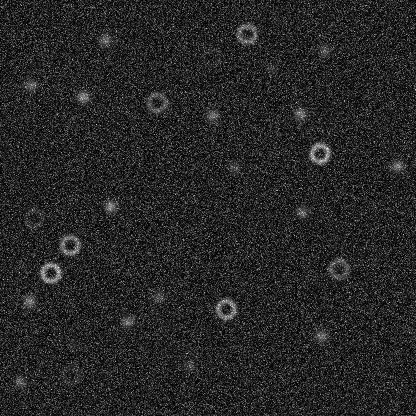Ring: (38, 260, 62, 284), (57, 232, 81, 256), (213, 296, 237, 320), (198, 45, 222, 69), (21, 205, 45, 229), (234, 21, 258, 45), (326, 256, 350, 280), (59, 362, 83, 386), (307, 141, 331, 165), (144, 90, 168, 114)
Spot: (389, 157, 405, 173), (119, 313, 135, 329), (75, 89, 91, 105), (225, 159, 241, 175), (65, 337, 81, 353), (316, 42, 332, 58), (313, 328, 329, 344), (96, 31, 112, 47), (22, 77, 38, 93), (263, 60, 279, 76), (292, 105, 308, 121), (204, 107, 220, 123), (180, 357, 196, 373), (294, 204, 310, 220), (102, 198, 118, 214), (12, 373, 28, 389), (150, 288, 166, 304), (21, 293, 37, 309)
